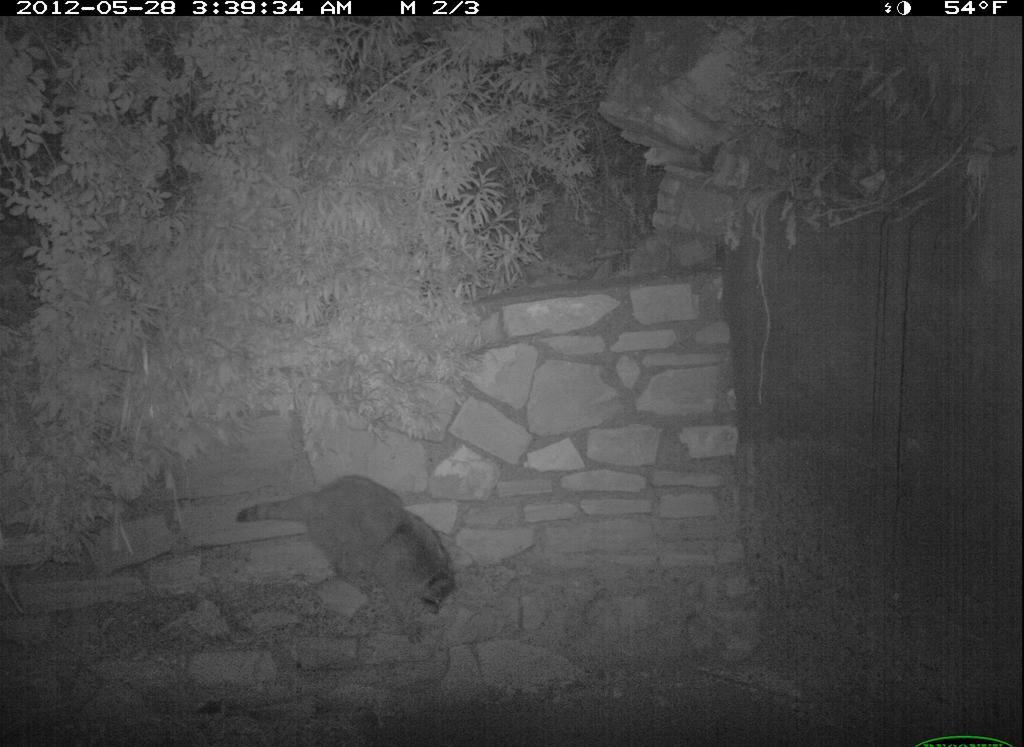raccoon: (217, 452, 477, 647)
